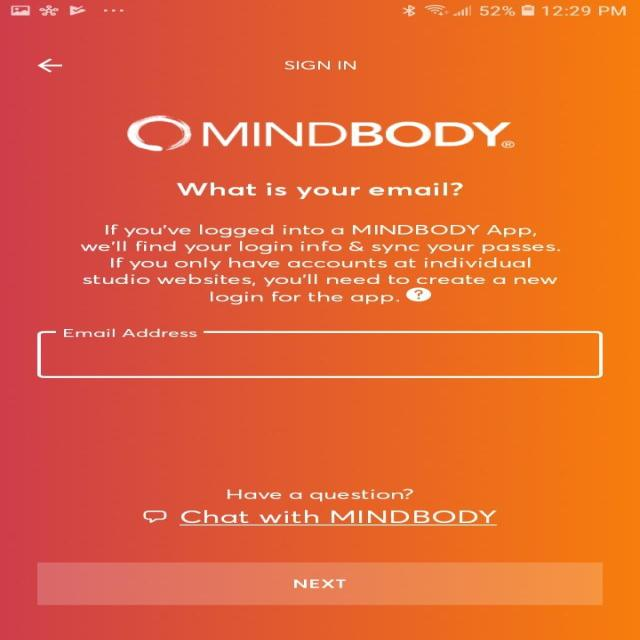EditText: (36, 327, 602, 378)
Icon: (404, 287, 432, 301), (36, 58, 64, 72), (142, 510, 167, 523)
Image: (126, 115, 516, 152)
Text: (79, 224, 560, 305), (179, 509, 497, 526), (175, 182, 463, 200), (226, 488, 414, 501), (63, 328, 197, 338), (284, 60, 356, 70)
TextButton: (36, 561, 602, 605)
